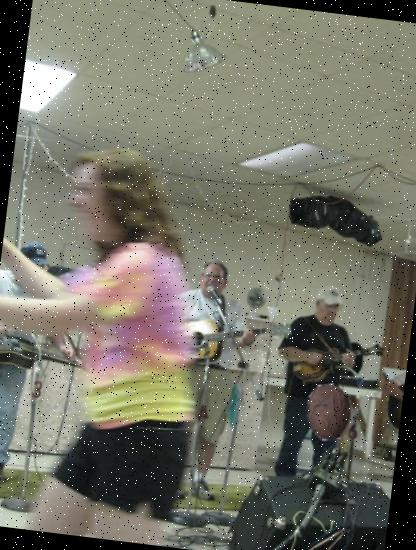Cocos: (298, 380, 362, 444)
